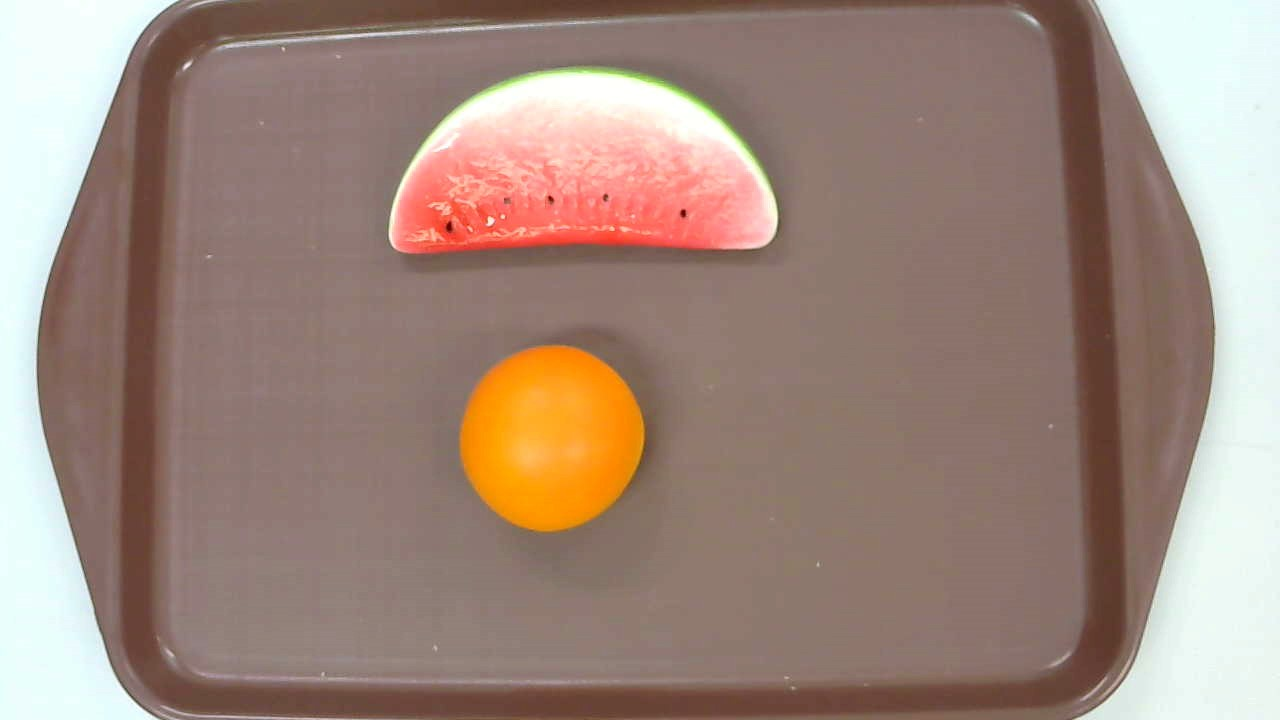bun: (458, 346, 644, 530)
water melon: (387, 66, 780, 253)
